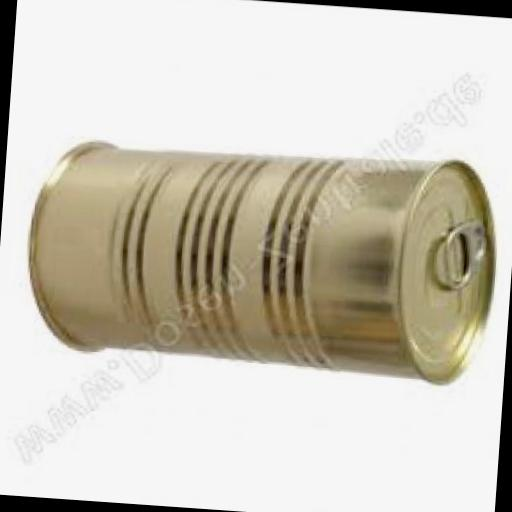metal: (24, 132, 503, 390)
